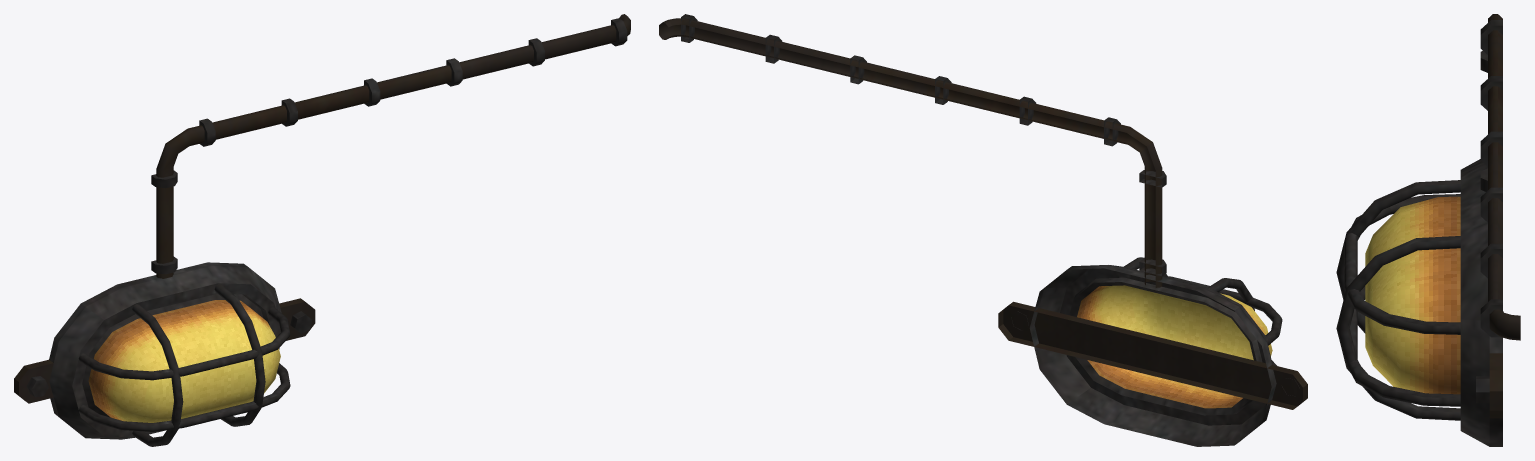
File: lamp_1_on.dae
3 views of the same model, side by side, from view 1: azimuth 30°, elevation 25°; view 2: azimuth 150°, elevation 25°; view 3: azimuth 270°, elevation 25° (orthographic). The views are drawn at different scales.
Visible parts, largest first — view 1: lamp_1_on; view 2: lamp_1_on; view 3: lamp_1_on.
Boxes of the visible parts, <box> form: lamp_1_on: <box>14,14,630,446</box>; lamp_1_on: <box>659,14,1307,446</box>; lamp_1_on: <box>1336,14,1520,446</box>.
Size of the model in its own units: 0.7532 by 0.1393 by 0.343.
4 materials, 4 textured.
